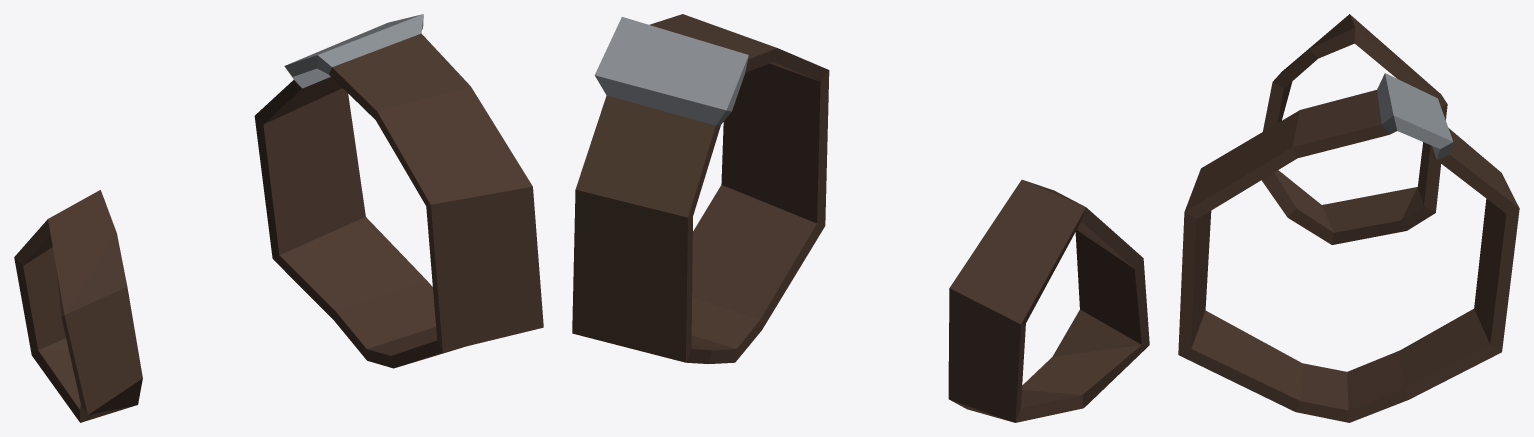
The model's file is Chr_ArmUpperRight_Female_16_Drop.fbx.
3 renders of one model, left to right at view 1: azimuth 30°, elevation 25°; view 2: azimuth 150°, elevation 25°; view 3: azimuth 270°, elevation 25°, orthographic. The views are drawn at different scales.
Parts seen in each view (by area): view 1: Chr_ArmUpperRight_Female_16_Static; view 2: Chr_ArmUpperRight_Female_16_Static; view 3: Chr_ArmUpperRight_Female_16_Static.
Boxes of the visible parts, x1,y1,x2,y2 form: Chr_ArmUpperRight_Female_16_Static: [14, 14, 543, 422]; Chr_ArmUpperRight_Female_16_Static: [572, 14, 1149, 422]; Chr_ArmUpperRight_Female_16_Static: [1178, 14, 1519, 422].
Bounding box in the file's own units: 21.26 × 14.64 × 14.75.
